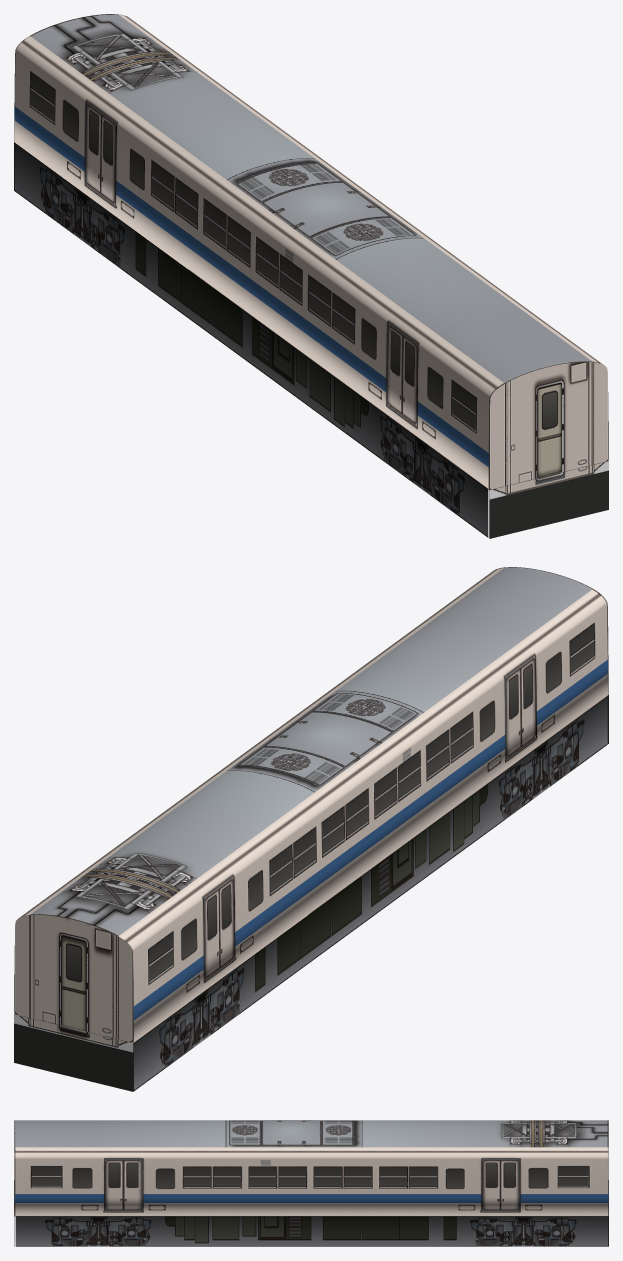
File: car2.glb
3 views of the same model, one above another, from view 1: azimuth 30°, elevation 25°; view 2: azimuth 150°, elevation 25°; view 3: azimuth 270°, elevation 25° (orthographic). The views are drawn at different scales.
Parts seen in each view (by area): view 1: jr-west-115-car2; view 2: jr-west-115-car2; view 3: jr-west-115-car2.
Boxes of the visible parts, x1,y1,x2,y2 form: jr-west-115-car2: [14, 14, 608, 538]; jr-west-115-car2: [14, 567, 608, 1091]; jr-west-115-car2: [14, 1120, 608, 1246].
Size of the model in its own units: 2.9 by 3.65 by 20.03.
9 materials, 8 textured.
